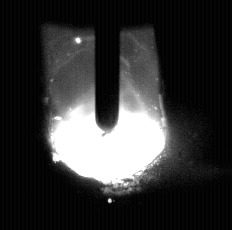arame: (95, 0, 122, 136)
poca: (49, 0, 169, 230)
